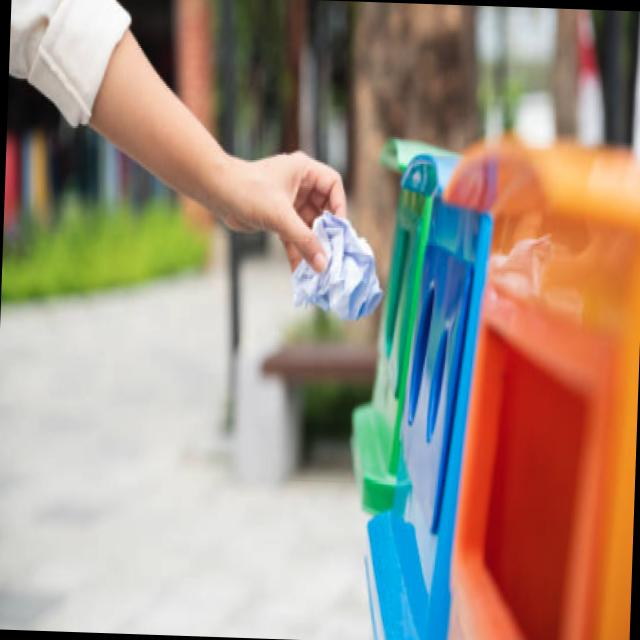KertasBekas: (289, 206, 388, 322)
